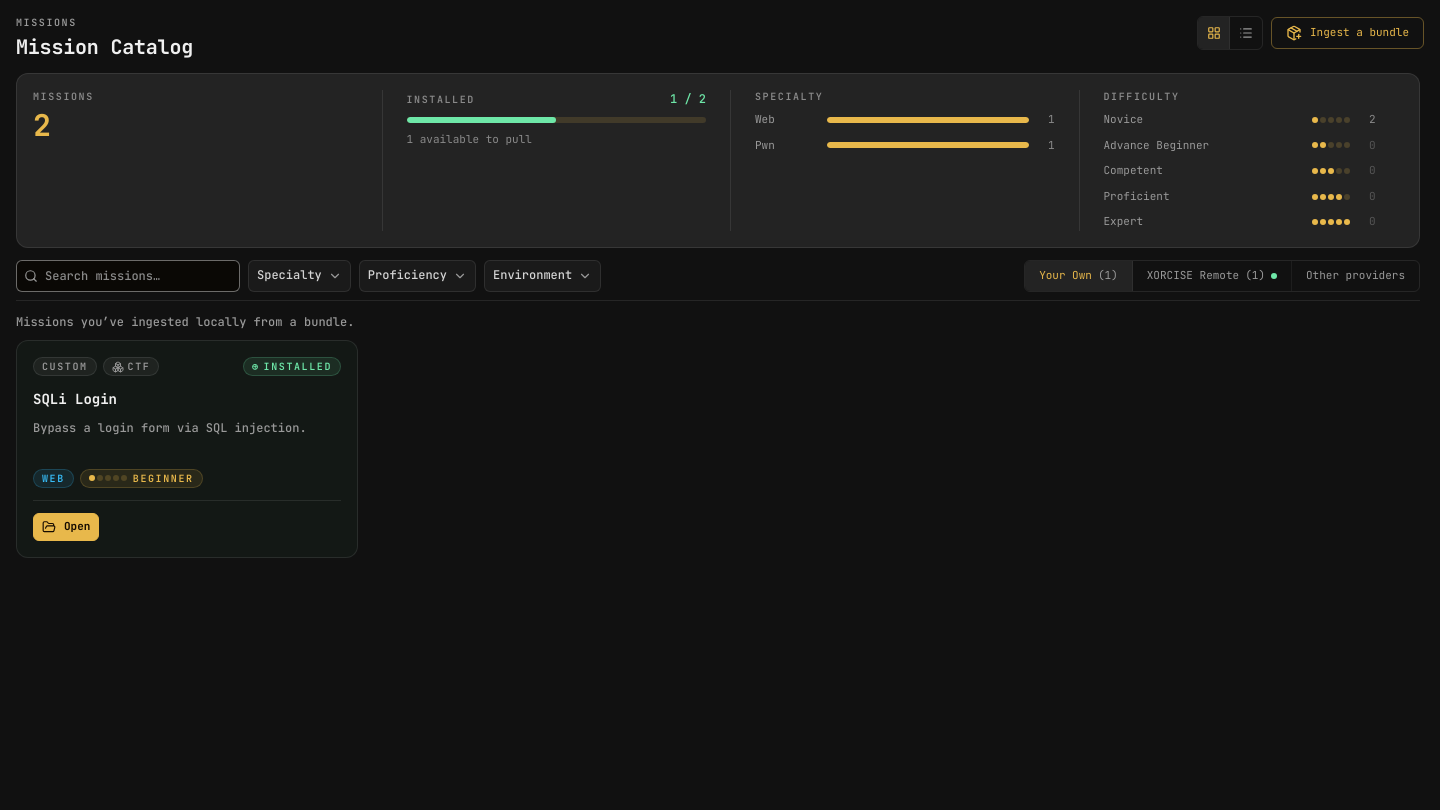
MissionCatalog › still shows the filters-matched-nothing state on Your Own when a search is active
Type "nothing-matches-this" into the field with placeholder "Search missions…" at (128, 276), box [16,260,240,292]
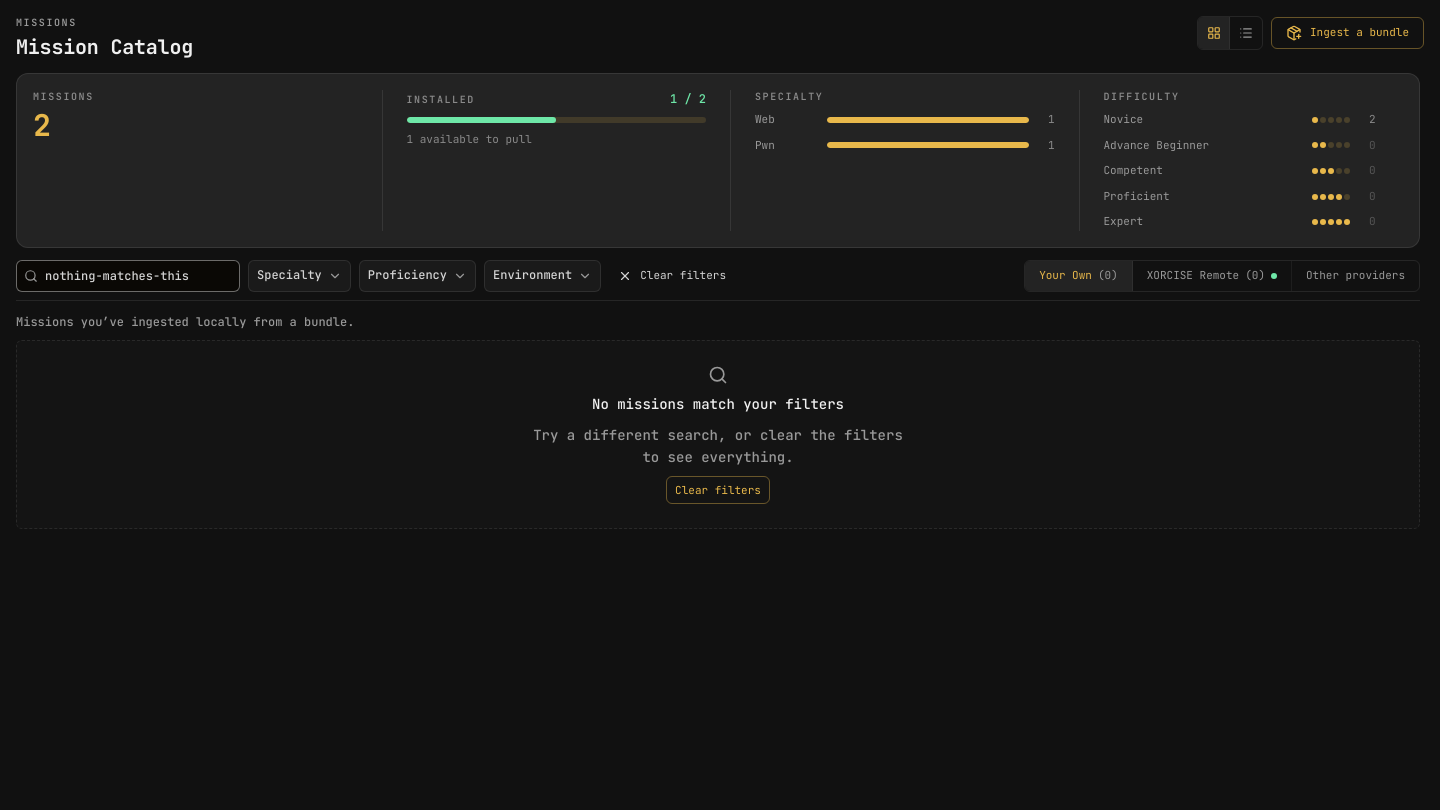
Expected: the text "No missions match your filters" is shown, [592,393,844,416]
